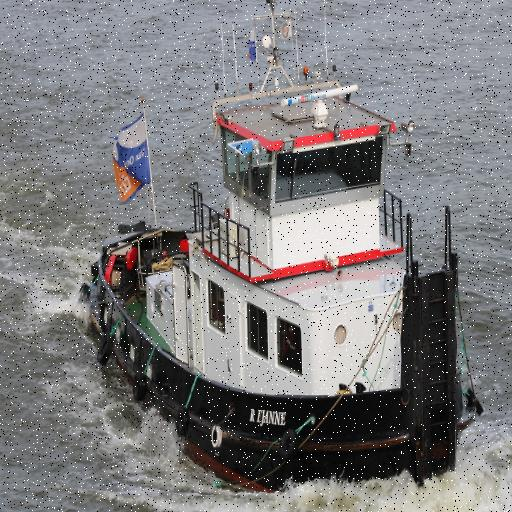tugboat: (71, 1, 490, 512)
